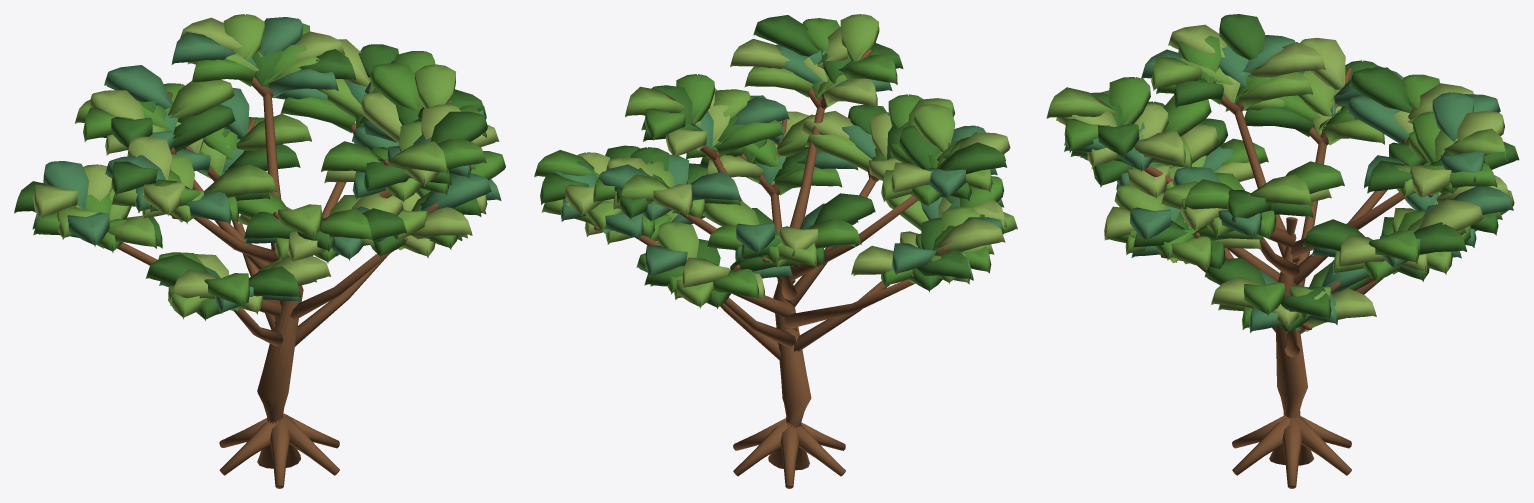
Rendered from hero-birch.glb.
3 views of the same model, side by side, from view 1: azimuth 30°, elevation 25°; view 2: azimuth 150°, elevation 25°; view 3: azimuth 270°, elevation 25° (orthographic). The views are drawn at different scales.
Parts seen in each view (by area): view 1: Tapered fluted trunk.001, Folded birch leaf.127, Folded birch leaf.126, Folded birch leaf.131, Folded birch leaf.124, Folded birch leaf.147, Folded birch leaf.046, Folded birch leaf.135, Folded birch leaf.059, Folded birch leaf.081, Folded birch leaf.183, Folded birch leaf.074 (+63 smaller); view 2: Tapered fluted trunk.001, Folded birch leaf.183, Folded birch leaf.075, Folded birch leaf.147, Primary branch.022, Folded birch leaf.191, Folded birch leaf.159, Folded birch leaf.115, Folded birch leaf.179, Folded birch leaf.177, Folded birch leaf.097, Folded birch leaf.140 (+66 smaller); view 3: Tapered fluted trunk.001, Folded birch leaf.115, Folded birch leaf.159, Folded birch leaf.158, Folded birch leaf.190, Folded birch leaf.113, Folded birch leaf.156, Folded birch leaf.191, Folded birch leaf.163, Folded birch leaf.075, Folded birch leaf.087, Folded birch leaf.135 (+65 smaller).
Part boxes in pixels (x1=…): Tapered fluted trunk.001: x1=257, y1=285, x2=303, y2=468; Folded birch leaf.127: x1=104, y1=65, x2=172, y2=109; Folded birch leaf.126: x1=167, y1=79, x2=234, y2=119; Folded birch leaf.131: x1=370, y1=63, x2=420, y2=111; Folded birch leaf.124: x1=173, y1=104, x2=235, y2=152; Folded birch leaf.147: x1=204, y1=164, x2=277, y2=197; Folded birch leaf.046: x1=236, y1=114, x2=311, y2=150; Folded birch leaf.135: x1=414, y1=64, x2=455, y2=108; Folded birch leaf.059: x1=421, y1=173, x2=491, y2=210; Folded birch leaf.081: x1=280, y1=97, x2=355, y2=133; Folded birch leaf.183: x1=431, y1=111, x2=487, y2=143; Folded birch leaf.074: x1=43, y1=161, x2=88, y2=210; Tapered fluted trunk.001: x1=768, y1=281, x2=811, y2=470; Folded birch leaf.183: x1=753, y1=15, x2=820, y2=56; Folded birch leaf.075: x1=934, y1=218, x2=1005, y2=252; Folded birch leaf.147: x1=913, y1=104, x2=955, y2=152; Primary branch.022: x1=784, y1=279, x2=914, y2=328; Folded birch leaf.191: x1=840, y1=14, x2=879, y2=61; Folded birch leaf.159: x1=939, y1=142, x2=1007, y2=174; Folded birch leaf.115: x1=813, y1=193, x2=875, y2=224; Folded birch leaf.179: x1=730, y1=38, x2=790, y2=68; Folded birch leaf.177: x1=744, y1=66, x2=813, y2=97; Folded birch leaf.097: x1=805, y1=133, x2=871, y2=171; Folded birch leaf.140: x1=715, y1=120, x2=783, y2=157; Tapered fluted trunk.001: x1=1269, y1=217, x2=1314, y2=465; Folded birch leaf.115: x1=1349, y1=67, x2=1413, y2=112; Folded birch leaf.159: x1=1219, y1=14, x2=1265, y2=59; Folded birch leaf.158: x1=1250, y1=42, x2=1325, y2=77; Folded birch leaf.190: x1=1109, y1=77, x2=1150, y2=125; Folded birch leaf.113: x1=1347, y1=94, x2=1408, y2=143; Folded birch leaf.156: x1=1239, y1=72, x2=1313, y2=110; Folded birch leaf.191: x1=1046, y1=87, x2=1115, y2=118; Folded birch leaf.163: x1=1432, y1=92, x2=1473, y2=141; Folded birch leaf.075: x1=1300, y1=38, x2=1345, y2=89; Folded birch leaf.087: x1=1419, y1=199, x2=1483, y2=230; Folded birch leaf.135: x1=1250, y1=174, x2=1312, y2=206.
Bounding box in the file's own units: 0.2515 × 0.2057 × 0.2301.
